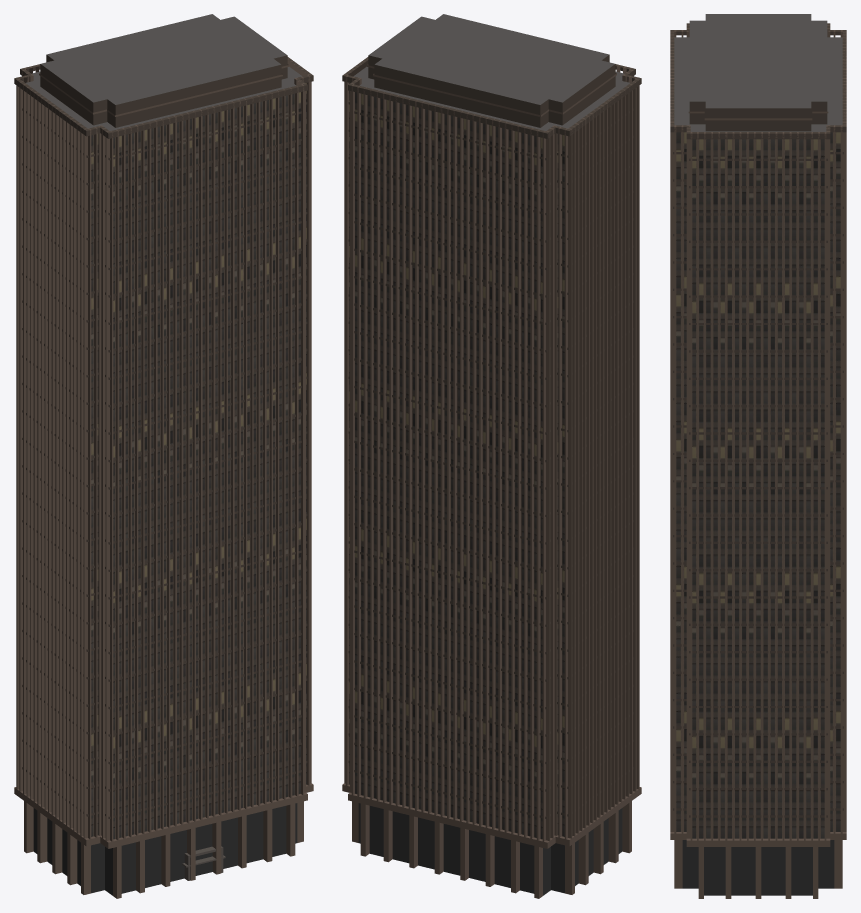
Rendered from one_market_spear_tower.glb.
3 renders of one model, left to right at view 1: azimuth 30°, elevation 25°; view 2: azimuth 150°, elevation 25°; view 3: azimuth 270°, elevation 25°, orthographic.
Visible parts, largest first — view 1: one_market_spear_tower; view 2: one_market_spear_tower; view 3: one_market_spear_tower.
Part boxes in pixels (x1,y1,x2,y2): one_market_spear_tower: [14, 14, 313, 898]; one_market_spear_tower: [342, 14, 641, 898]; one_market_spear_tower: [670, 14, 846, 898].
Size of the model in its own units: 51.99 by 172 by 35.
Materials: 2 (2 with a texture image).
